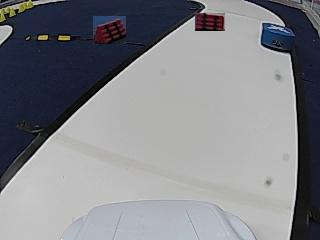prop: (260, 22, 295, 53)
